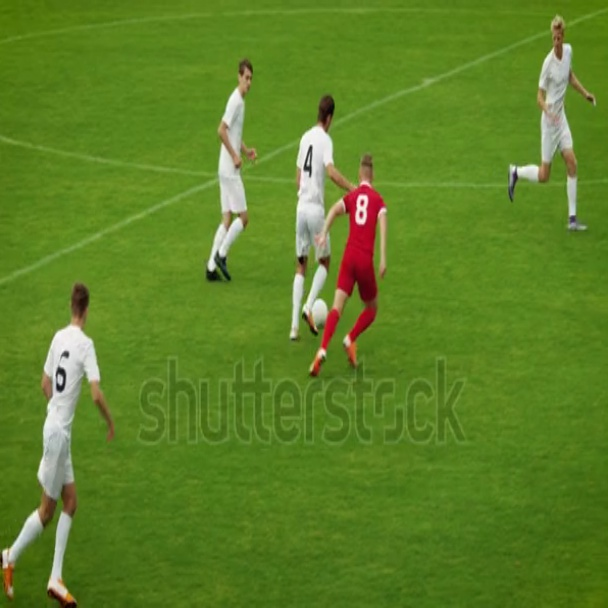ball: (313, 295, 329, 330)
